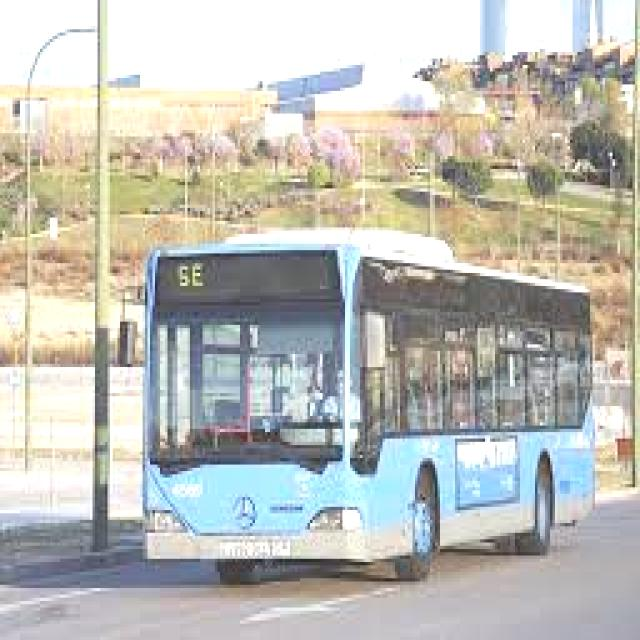BUS: (138, 221, 606, 577)
